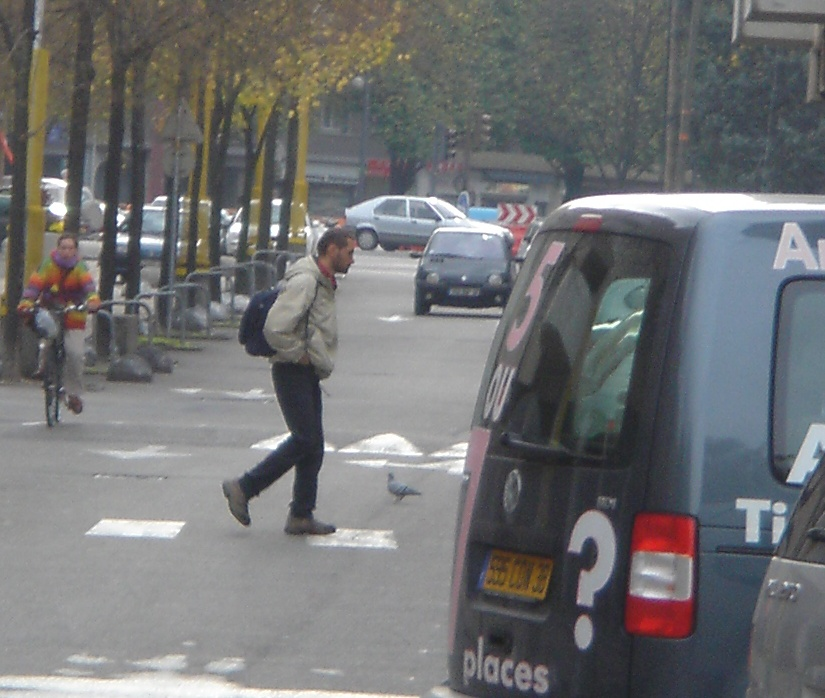person: (233, 220, 354, 536), (24, 233, 95, 420)
